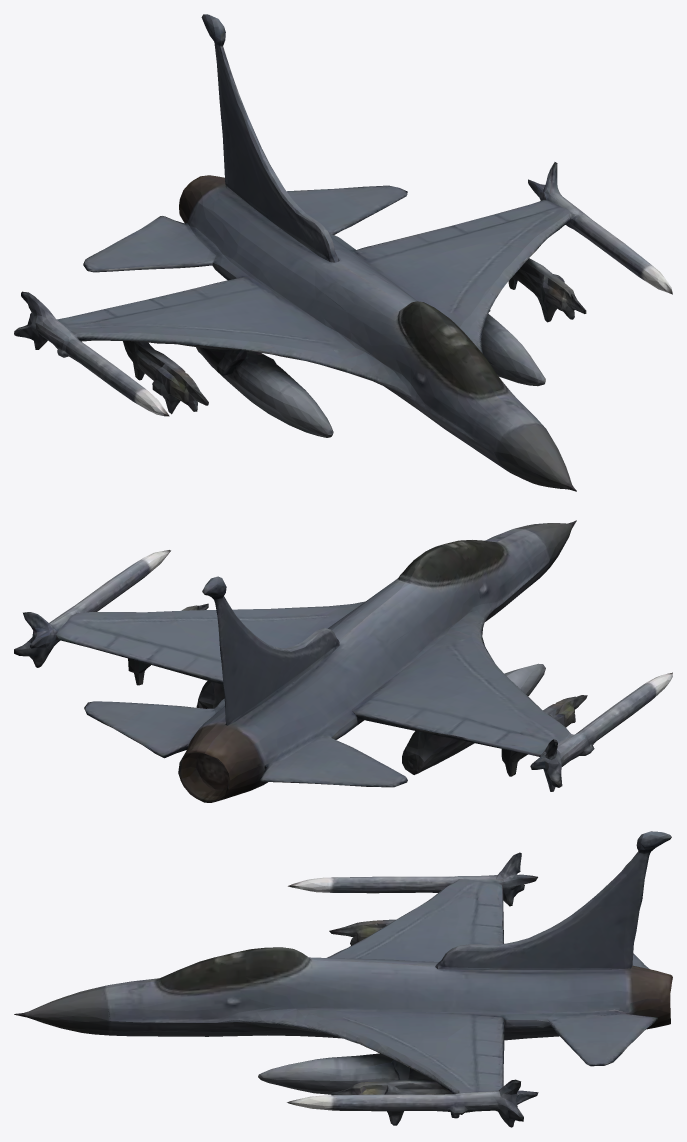
Rendered from jet.glb.
3 views of the same model, one above another, from view 1: azimuth 30°, elevation 25°; view 2: azimuth 150°, elevation 25°; view 3: azimuth 270°, elevation 25° (orthographic). The views are drawn at different scales.
Parts seen in each view (by area): view 1: geometry_0; view 2: geometry_0; view 3: geometry_0.
Part boxes in pixels (x1,y1,x2,y2): geometry_0: (14, 14, 672, 491); geometry_0: (14, 520, 672, 802); geometry_0: (14, 831, 672, 1127).
Bounding box in the file's own units: 0.8438 × 0.3678 × 0.9993.
1 material, 1 textured.
